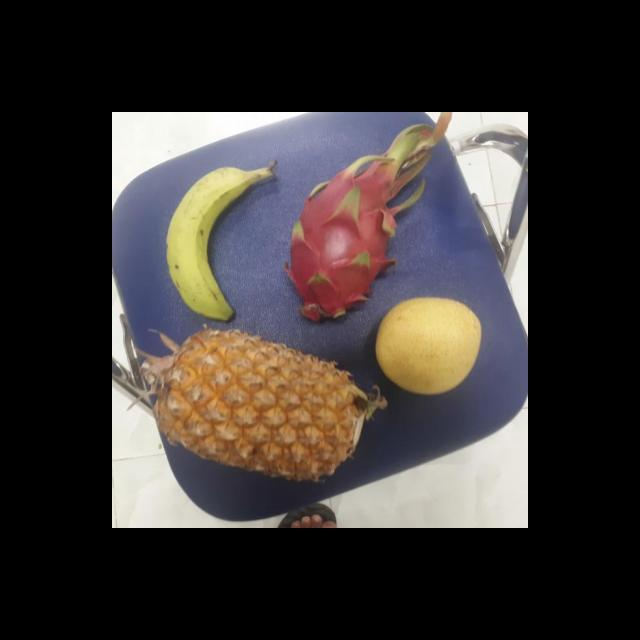banana: (162, 167, 264, 319)
pear: (371, 298, 482, 394)
pineapple: (150, 328, 362, 482)
pitaya: (278, 171, 414, 321)
